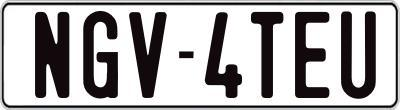4: (203, 11, 246, 102)
E: (295, 10, 330, 101)
G: (81, 10, 122, 103)
N: (35, 10, 70, 96)
T: (249, 12, 282, 104)
U: (341, 10, 380, 103)
V: (129, 10, 167, 98)
